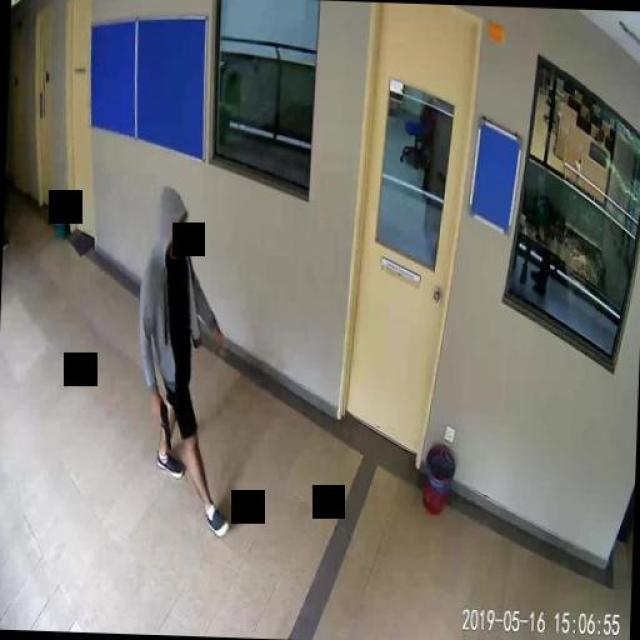gun: (150, 399, 170, 449)
